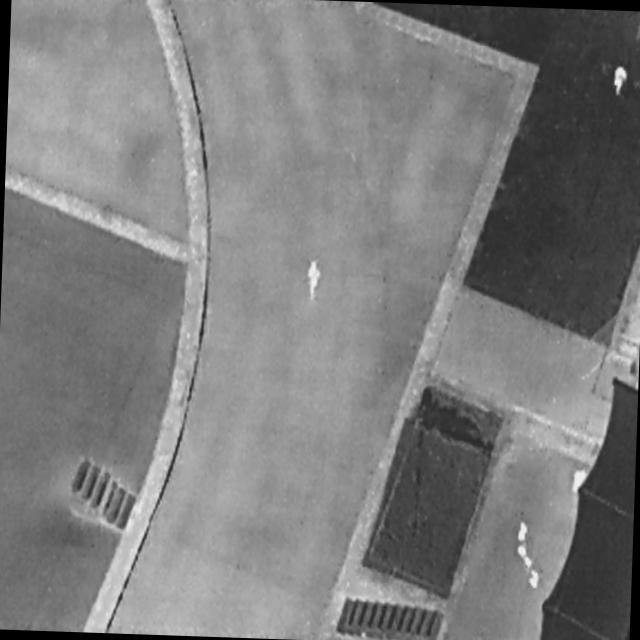person: (566, 460, 592, 501), (305, 258, 322, 303), (610, 63, 629, 100)
